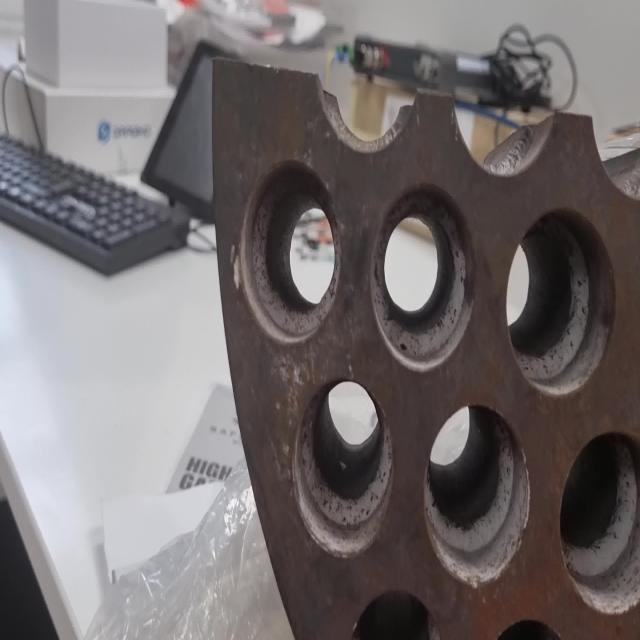Hole: (504, 207, 616, 396), (367, 179, 474, 371), (423, 399, 531, 587), (234, 158, 342, 344), (292, 378, 394, 558), (560, 429, 640, 616), (342, 587, 446, 639)
